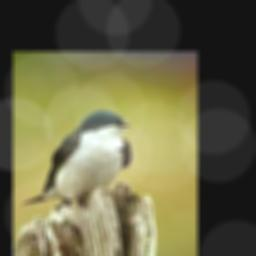Swallow: (22, 110, 131, 206)
